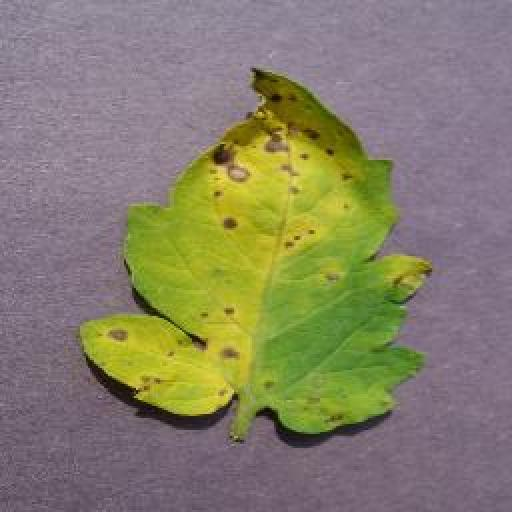Septoria: (80, 68, 434, 436)
